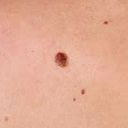Melanoma: (53, 48, 70, 69)
